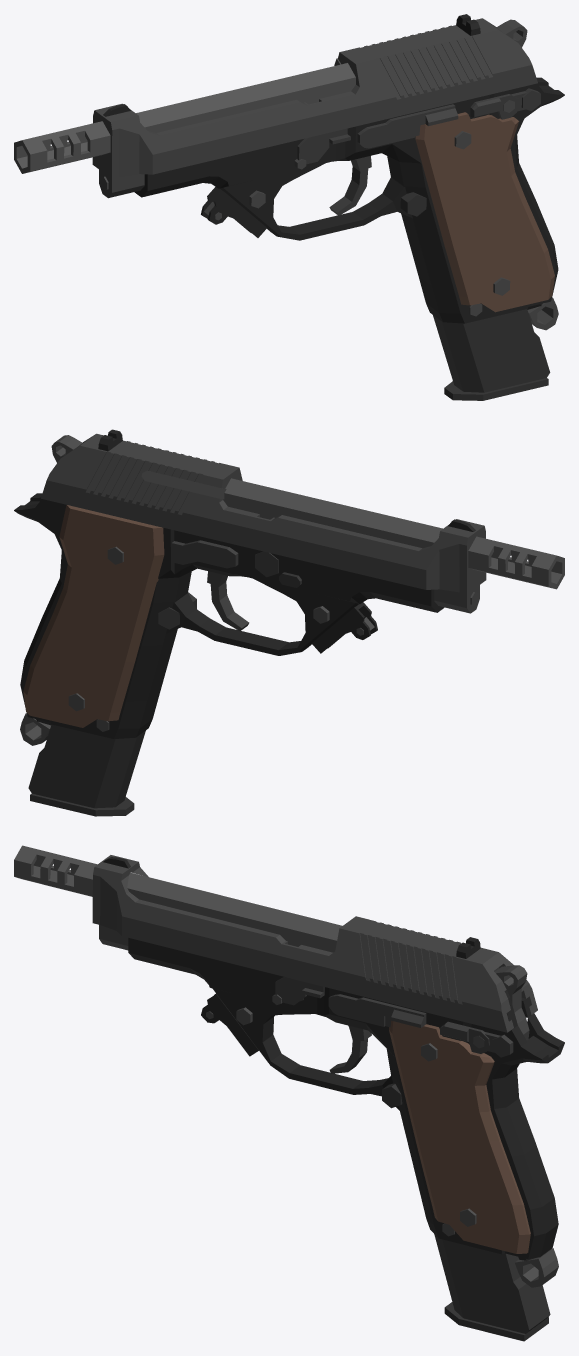
Rendered from Beretta 93r.glb.
3 views of the same model, one above another, from view 1: azimuth 30°, elevation 25°; view 2: azimuth 150°, elevation 25°; view 3: azimuth 330°, elevation 25° (orthographic).
Visible parts, largest first — view 1: Untitled.008_meshes[6], Untitled.006_meshes[6].007, Untitled.004_meshes[6].005, Untitled.000_meshes[6].001, Untitled.010_meshes[6].010, Untitled.009_meshes[6].009, Untitled.007_meshes[6].008, Untitled.005_meshes[6].006; view 2: Untitled.008_meshes[6], Untitled.006_meshes[6].007, Untitled.004_meshes[6].005, Untitled.000_meshes[6].001, Untitled.010_meshes[6].010, Untitled.009_meshes[6].009, Untitled.007_meshes[6].008, Untitled.005_meshes[6].006; view 3: Untitled.008_meshes[6], Untitled.006_meshes[6].007, Untitled.004_meshes[6].005, Untitled.000_meshes[6].001, Untitled.010_meshes[6].010, Untitled.009_meshes[6].009, Untitled.007_meshes[6].008, Untitled.005_meshes[6].006.
Boxes of the visible parts, <box> form: Untitled.008_meshes[6]: <box>92,18,537,198</box>; Untitled.006_meshes[6].007: <box>103,14,564,323</box>; Untitled.004_meshes[6].005: <box>415,112,554,312</box>; Untitled.000_meshes[6].001: <box>14,63,355,173</box>; Untitled.010_meshes[6].010: <box>400,192,550,400</box>; Untitled.009_meshes[6].009: <box>297,88,540,215</box>; Untitled.007_meshes[6].008: <box>204,58,558,330</box>; Untitled.005_meshes[6].006: <box>100,19,527,190</box>; Untitled.008_meshes[6]: <box>41,433,486,613</box>; Untitled.006_meshes[6].007: <box>14,429,475,738</box>; Untitled.004_meshes[6].005: <box>23,505,164,727</box>; Untitled.000_meshes[6].001: <box>223,478,564,589</box>; Untitled.010_meshes[6].010: <box>28,572,301,816</box>; Untitled.009_meshes[6].009: <box>171,540,278,630</box>; Untitled.007_meshes[6].008: <box>20,470,374,745</box>; Untitled.005_meshes[6].006: <box>51,435,478,605</box>; Untitled.008_meshes[6]: <box>92,855,537,1032</box>; Untitled.006_meshes[6].007: <box>103,857,564,1260</box>; Untitled.004_meshes[6].005: <box>389,1020,530,1253</box>; Untitled.000_meshes[6].001: <box>14,845,342,952</box>; Untitled.010_meshes[6].010: <box>382,1083,550,1341</box>; Untitled.009_meshes[6].009: <box>275,977,513,1073</box>; Untitled.007_meshes[6].008: <box>206,994,558,1287</box>; Untitled.005_meshes[6].006: <box>495,965,529,1040</box>.
Size of the model in its own units: 13.68 by 9.19 by 1.62.
